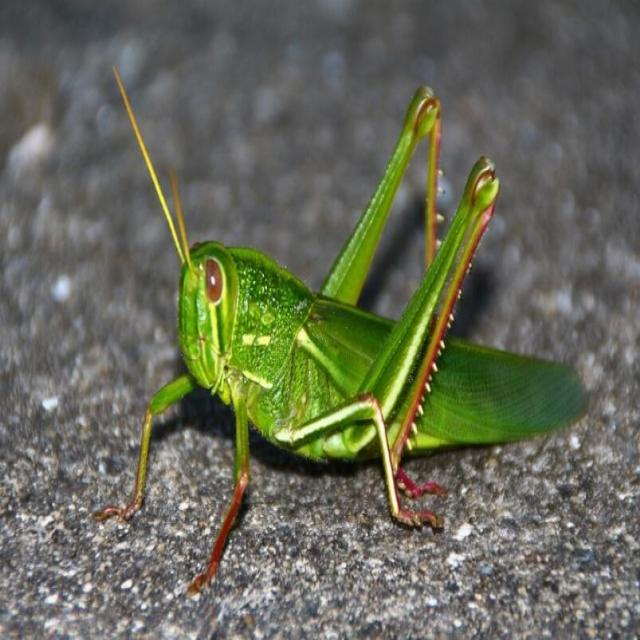ZhaMeng: (100, 50, 589, 592)
